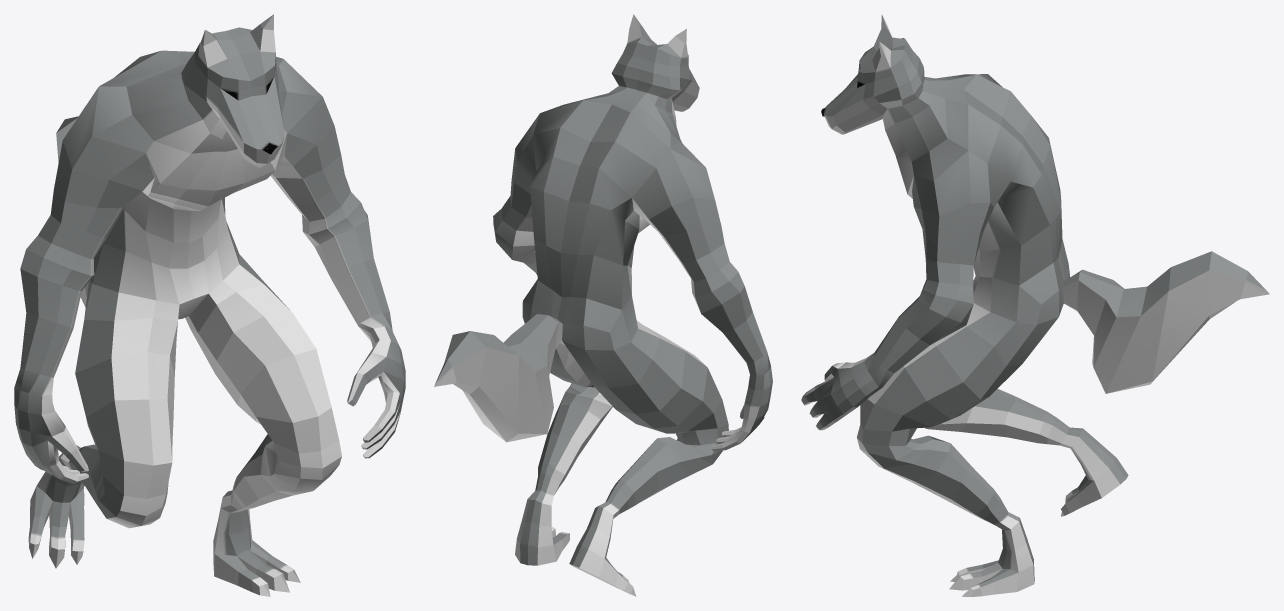
File: WolfWalk(19).obj
The picture shows the model from 3 angles, left to right: view 1: azimuth 30°, elevation 25°; view 2: azimuth 150°, elevation 25°; view 3: azimuth 270°, elevation 25°; orthographic projection. The views are drawn at different scales.
Visible parts, largest first — view 1: Box001; view 2: Box001; view 3: Box001.
Boxes of the visible parts, left/top/right/bottom form: Box001: left=14, top=14, right=405, bottom=596; Box001: left=434, top=14, right=772, bottom=596; Box001: left=801, top=15, right=1269, bottom=596.
Bounding box in the file's own units: 75.95 × 131 × 106.
